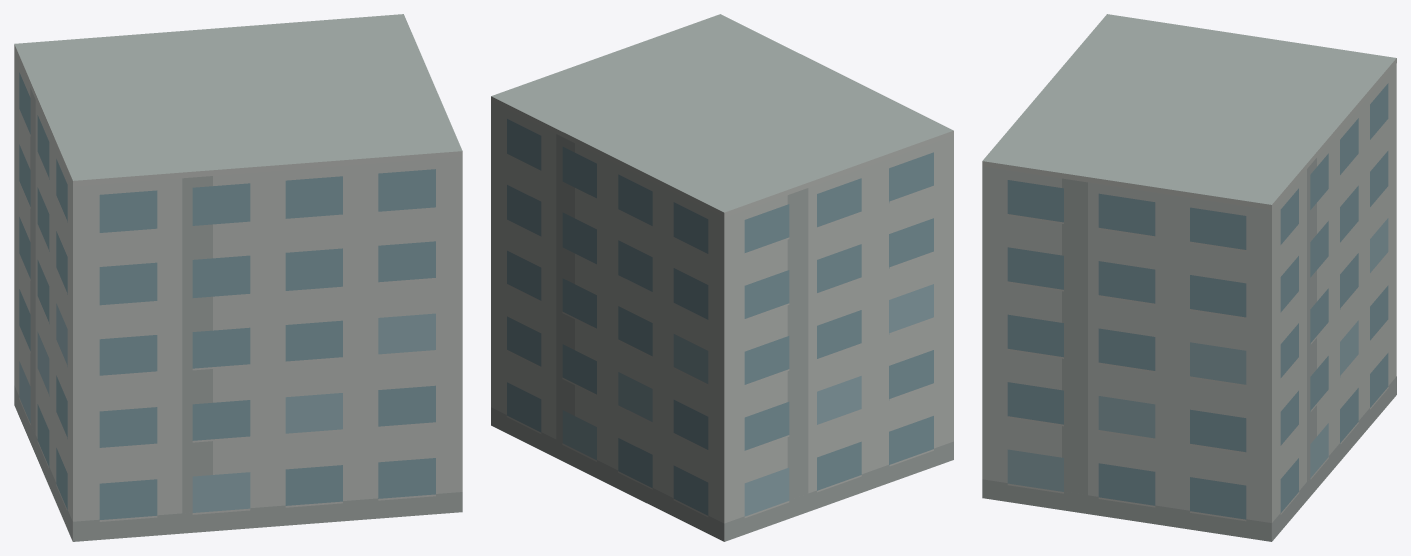
File: residential-b6a9af24-5a7a-44aa-b791-e20268c0e6db.glb
3 views of the same model, side by side, from view 1: azimuth 30°, elevation 25°; view 2: azimuth 150°, elevation 25°; view 3: azimuth 270°, elevation 25° (orthographic). The views are drawn at different scales.
Parts seen in each view (by area): view 1: residential-b6a9af24-5a7a-44aa-b791-e20268c0e6db.tmp; view 2: residential-b6a9af24-5a7a-44aa-b791-e20268c0e6db.tmp; view 3: residential-b6a9af24-5a7a-44aa-b791-e20268c0e6db.tmp.
Part boxes in pixels (left/top/right/bottom): residential-b6a9af24-5a7a-44aa-b791-e20268c0e6db.tmp: left=14, top=14, right=462, bottom=541; residential-b6a9af24-5a7a-44aa-b791-e20268c0e6db.tmp: left=491, top=14, right=953, bottom=541; residential-b6a9af24-5a7a-44aa-b791-e20268c0e6db.tmp: left=982, top=14, right=1396, bottom=541.
Size of the model in its own units: 18.54 by 15.25 by 17.01.
